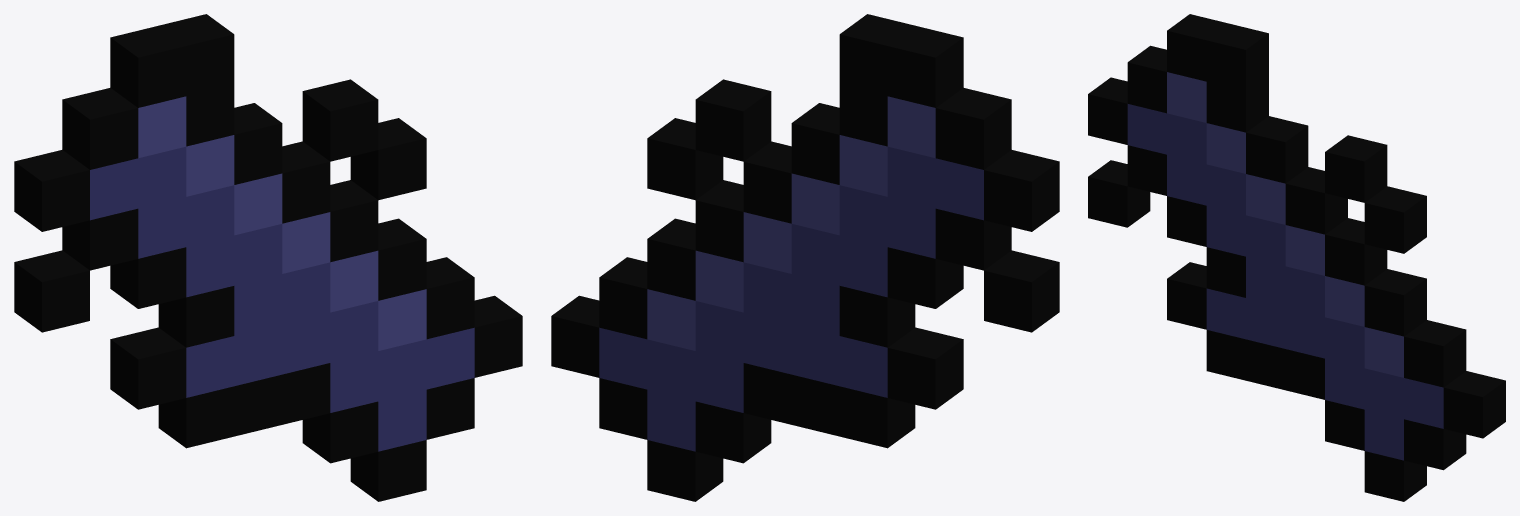
The model's file is Grenade Launcher.glb.
The picture shows the model from 3 angles, left to right: view 1: azimuth 30°, elevation 25°; view 2: azimuth 150°, elevation 25°; view 3: azimuth 330°, elevation 25°; orthographic projection. The views are drawn at different scales.
Parts seen in each view (by area): view 1: generated(Clone); view 2: generated(Clone); view 3: generated(Clone).
Part boxes in pixels (x1=…): generated(Clone): x1=14, y1=14, x2=522, y2=501; generated(Clone): x1=551, y1=14, x2=1059, y2=501; generated(Clone): x1=1088, y1=14, x2=1505, y2=501.
Size of the model in its own units: 10 by 10 by 1.
Materials: 1 (1 with a texture image).
